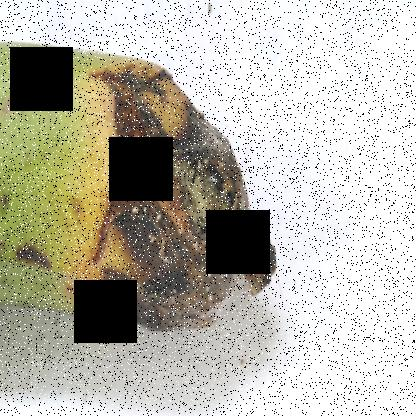rotten: (63, 39, 291, 346)
